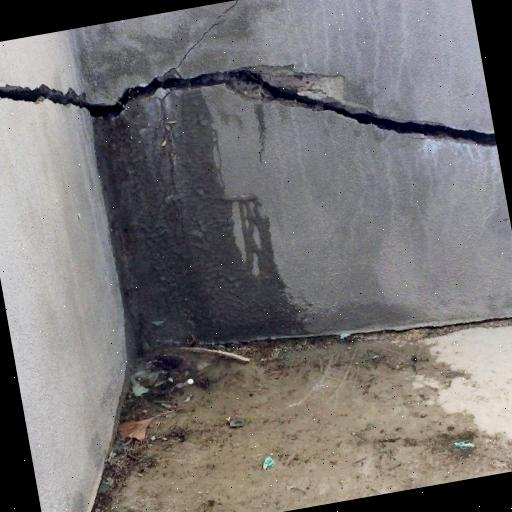spalling: (0, 55, 490, 157), (175, 7, 242, 56)
